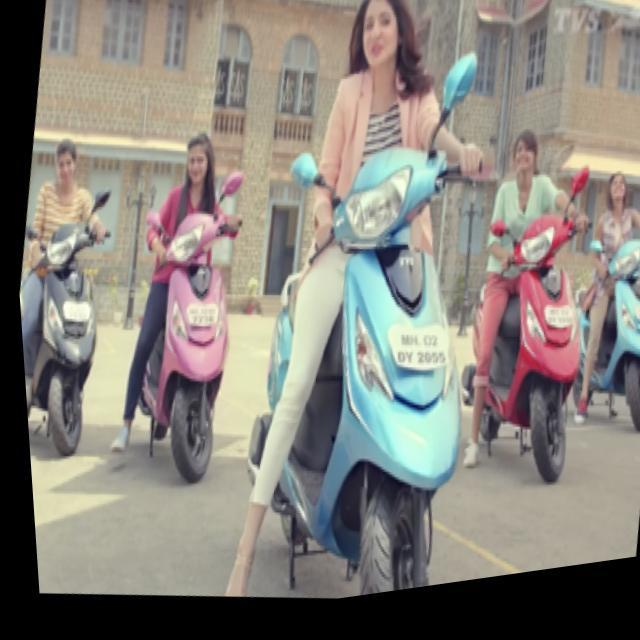Nonhelmet: (342, 0, 418, 83), (178, 122, 222, 198), (508, 119, 542, 188), (49, 130, 85, 194)
